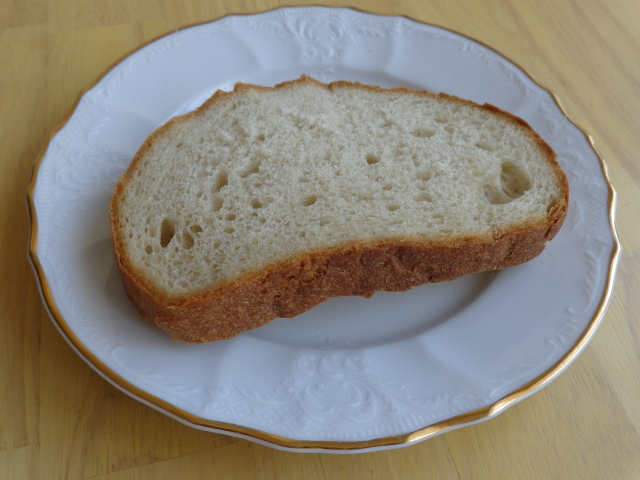slice of bread: (113, 80, 569, 338)
